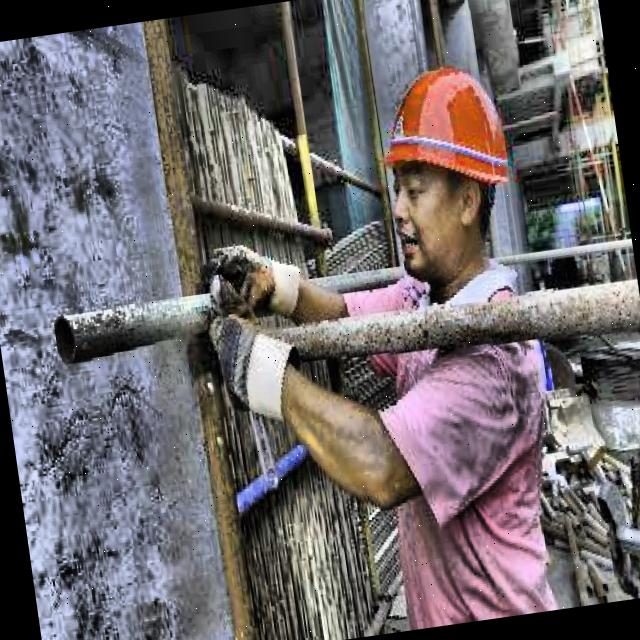helmet: (357, 44, 536, 311)
